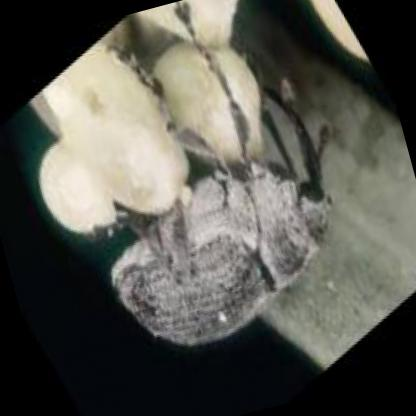ash weevil: (111, 93, 331, 347)
